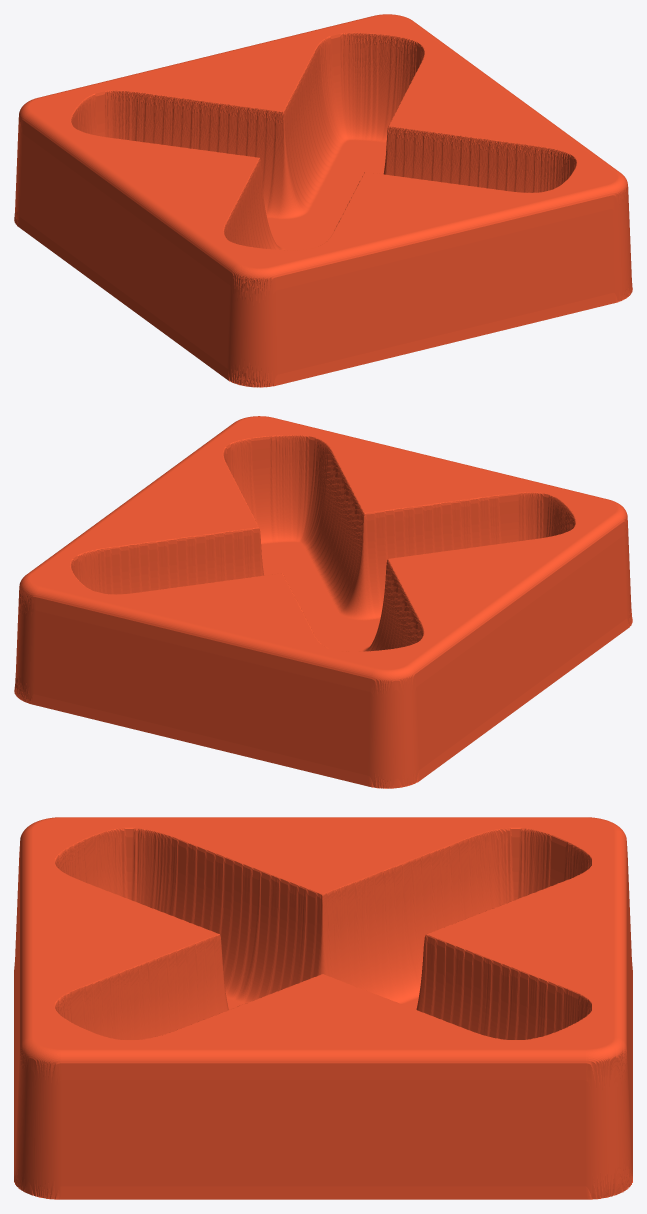
File: mold.glb
The picture shows the model from 3 angles, top to bottom: view 1: azimuth 30°, elevation 25°; view 2: azimuth 150°, elevation 25°; view 3: azimuth 270°, elevation 25°; orthographic projection. The views are drawn at different scales.
Visible parts, largest first — view 1: geometry_0; view 2: geometry_0; view 3: geometry_0.
Part boxes in pixels (x1,y1,x2,y2): geometry_0: [14, 14, 632, 387]; geometry_0: [14, 416, 632, 788]; geometry_0: [14, 817, 632, 1199].
Bounding box in the file's own units: 0.1112 × 0.0299 × 0.1178.
